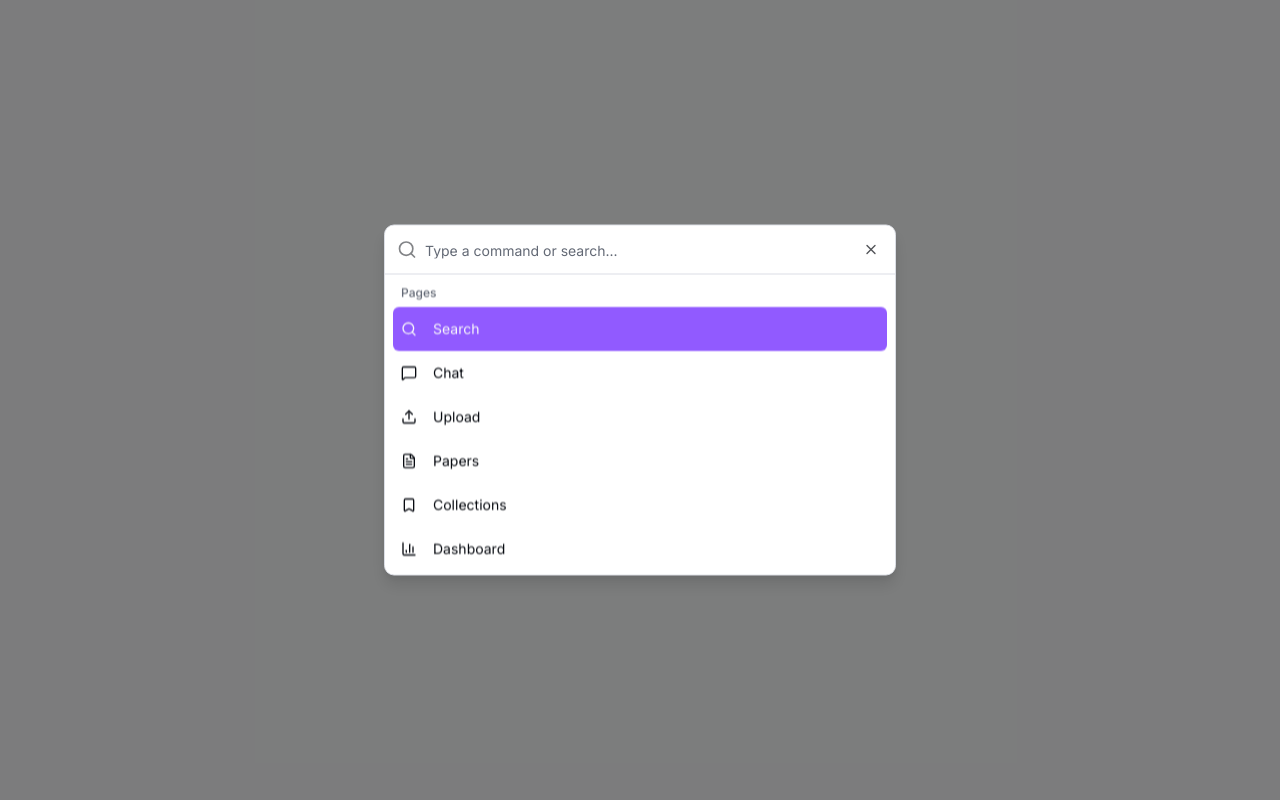
Scenario: CommandPalette › shows empty state when no results match
Type "xyznonexistent" into the dropdown with placeholder "Type a command or search..." at point(654, 250), box [425,226,883,274]
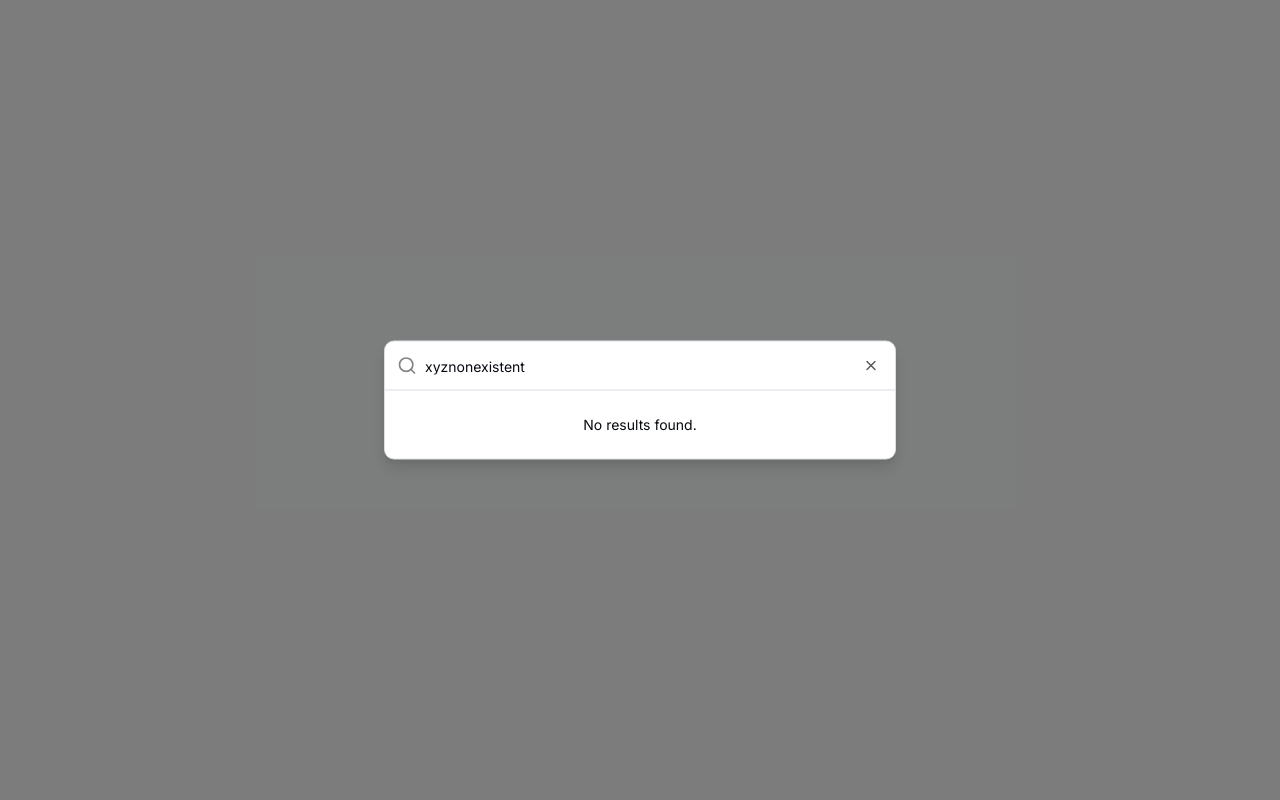
Now the text "No results found." is shown, box [583,416,697,432]
